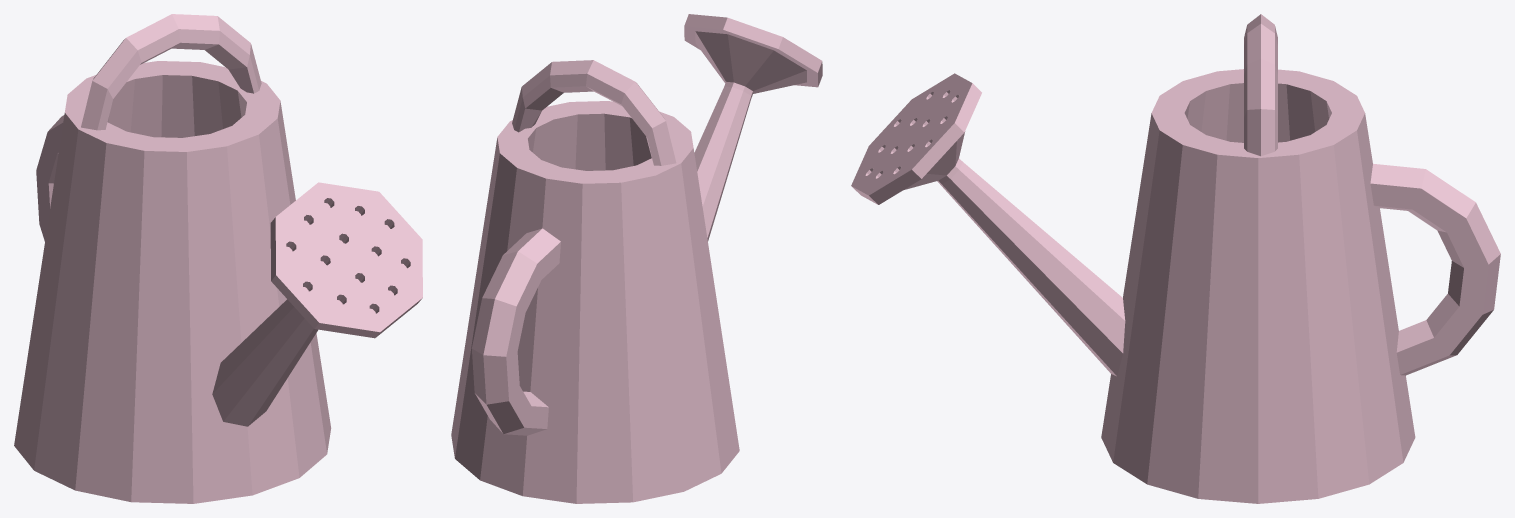
Rendered from wateringcan.glb.
The picture shows the model from 3 angles, left to right: view 1: azimuth 30°, elevation 25°; view 2: azimuth 150°, elevation 25°; view 3: azimuth 270°, elevation 25°; orthographic projection. The views are drawn at different scales.
Visible parts, largest first — view 1: wateringcan; view 2: wateringcan; view 3: wateringcan.
Part boxes in pixels (box(x1,y1,x2,y2)): wateringcan: box(14, 14, 422, 503); wateringcan: box(451, 14, 822, 503); wateringcan: box(851, 14, 1500, 503).
Size of the model in its own units: 0.76 by 1.11 by 1.57.
